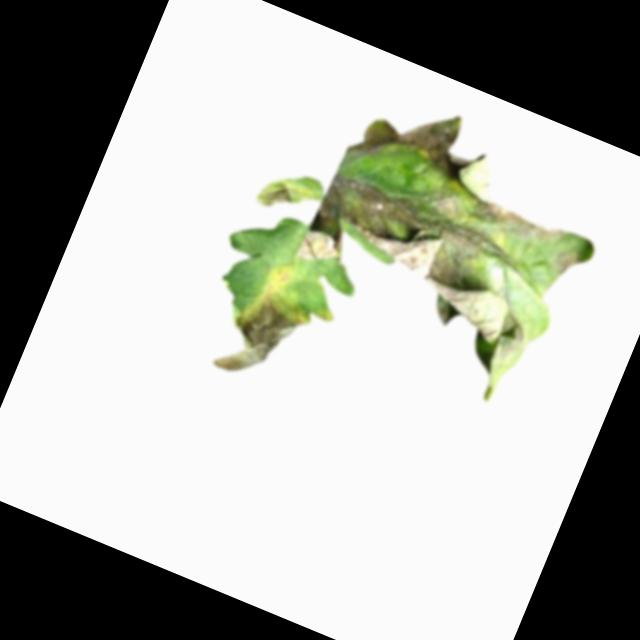Late_blight: (304, 147, 521, 320), (349, 82, 499, 199), (206, 275, 313, 393), (468, 180, 571, 251), (296, 207, 354, 269), (252, 172, 302, 217), (551, 242, 586, 278)
